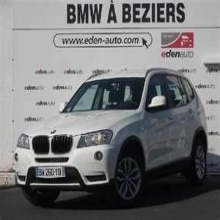no damage: (12, 65, 209, 201)
